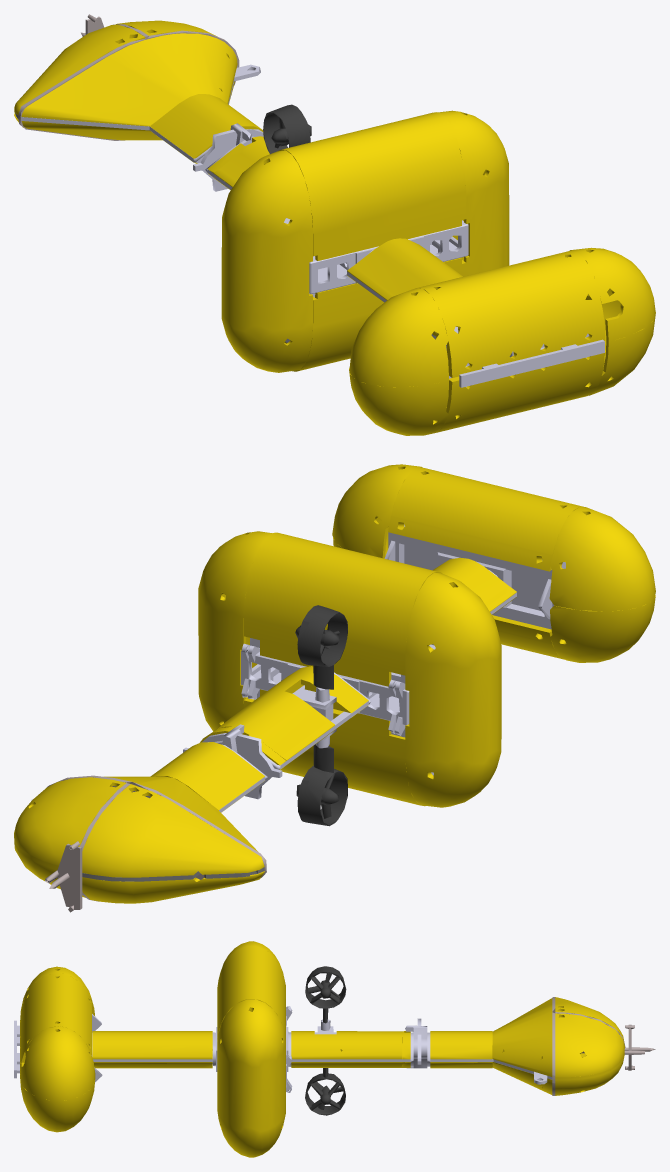
The model's file is SeaDragon.dae.
3 views of the same model, one above another, from view 1: azimuth 30°, elevation 25°; view 2: azimuth 150°, elevation 25°; view 3: azimuth 270°, elevation 25° (orthographic). The views are drawn at different scales.
Visible parts, largest first — view 1: SeaDragon(Simple)_45, SeaDragon(Simple)_61, SeaDragon(Simple)_63, SeaDragon(Simple)_47, SeaDragon(Simple)_38, SeaDragon(Simple)_34, SeaDragon(Simple)_65, SeaDragon(Simple)_14, SeaDragon(Simple)_24, SeaDragon(Simple)_2, SeaDragon(Simple)_71, SeaDragon(Simple)_8 (+9 smaller); view 2: SeaDragon(Simple)_61, SeaDragon(Simple)_45, SeaDragon(Simple)_38, SeaDragon(Simple)_63, SeaDragon(Simple)_8, SeaDragon(Simple)_34, SeaDragon(Simple)_16, SeaDragon(Simple)_30, SeaDragon(Simple)_24, SeaDragon(Simple)_55, SeaDragon(Simple)_14, SeaDragon(Simple)_71 (+13 smaller); view 3: SeaDragon(Simple)_34, SeaDragon(Simple)_14, SeaDragon(Simple)_16, SeaDragon(Simple)_63, SeaDragon(Simple)_45, SeaDragon(Simple)_2, SeaDragon(Simple)_30, SeaDragon(Simple)_47, SeaDragon(Simple)_71, SeaDragon(Simple)_4, SeaDragon(Simple)_12, SeaDragon(Simple)_28 (+12 smaller).
Part boxes in pixels (box(x1,y1,x2,y2)): SeaDragon(Simple)_45: box(278, 112, 466, 260); SeaDragon(Simple)_61: box(221, 150, 312, 372); SeaDragon(Simple)_63: box(418, 250, 605, 377); SeaDragon(Simple)_47: box(21, 33, 237, 126); SeaDragon(Simple)_38: box(349, 288, 449, 435); SeaDragon(Simple)_34: box(438, 110, 509, 275); SeaDragon(Simple)_65: box(437, 344, 605, 432); SeaDragon(Simple)_14: box(569, 247, 655, 395); SeaDragon(Simple)_24: box(284, 257, 466, 371); SeaDragon(Simple)_2: box(347, 238, 462, 300); SeaDragon(Simple)_71: box(150, 94, 263, 158); SeaDragon(Simple)_8: box(14, 24, 145, 114); SeaDragon(Simple)_61: box(405, 573, 501, 807); SeaDragon(Simple)_45: box(244, 532, 441, 686); SeaDragon(Simple)_38: box(549, 507, 655, 662); SeaDragon(Simple)_63: box(388, 467, 583, 571); SeaDragon(Simple)_8: box(82, 784, 264, 877); SeaDragon(Simple)_34: box(198, 531, 271, 731); SeaDragon(Simple)_16: box(14, 777, 125, 897); SeaDragon(Simple)_30: box(200, 666, 368, 765); SeaDragon(Simple)_24: box(244, 689, 433, 806); SeaDragon(Simple)_55: box(384, 532, 553, 629); SeaDragon(Simple)_14: box(332, 464, 422, 558); SeaDragon(Simple)_71: box(150, 742, 264, 809); SeaDragon(Simple)_34: box(217, 999, 285, 1157); SeaDragon(Simple)_14: box(20, 1026, 95, 1132); SeaDragon(Simple)_16: box(555, 1013, 624, 1095); SeaDragon(Simple)_63: box(20, 973, 91, 1074); SeaDragon(Simple)_45: box(217, 946, 285, 1041); SeaDragon(Simple)_2: box(92, 1031, 212, 1059); SeaDragon(Simple)_30: box(291, 1031, 410, 1059); SeaDragon(Simple)_47: box(492, 998, 552, 1076); SeaDragon(Simple)_71: box(430, 1031, 492, 1059); SeaDragon(Simple)_4: box(305, 966, 346, 1023); SeaDragon(Simple)_12: box(305, 1068, 345, 1115); SeaDragon(Simple)_28: box(93, 1062, 212, 1068).
Size of the model in its own units: 2275 by 6016 by 1593.
